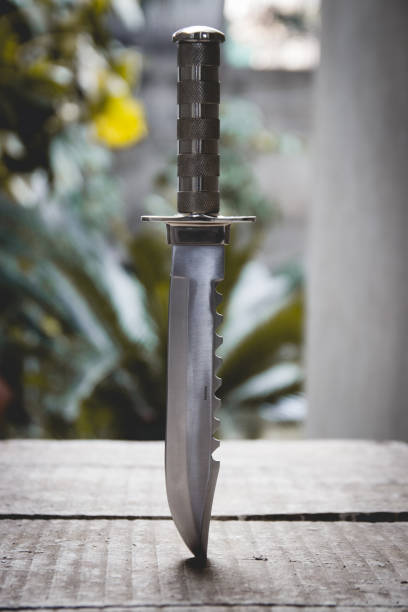knife: (138, 21, 261, 566)
